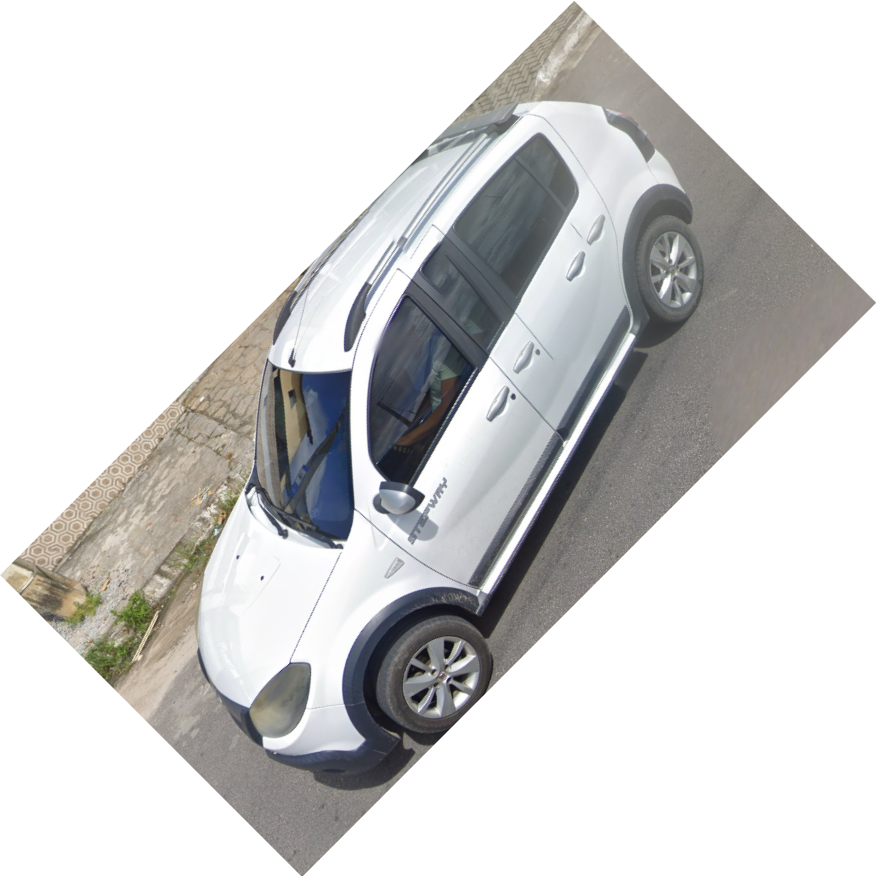car: (199, 102, 707, 774)
